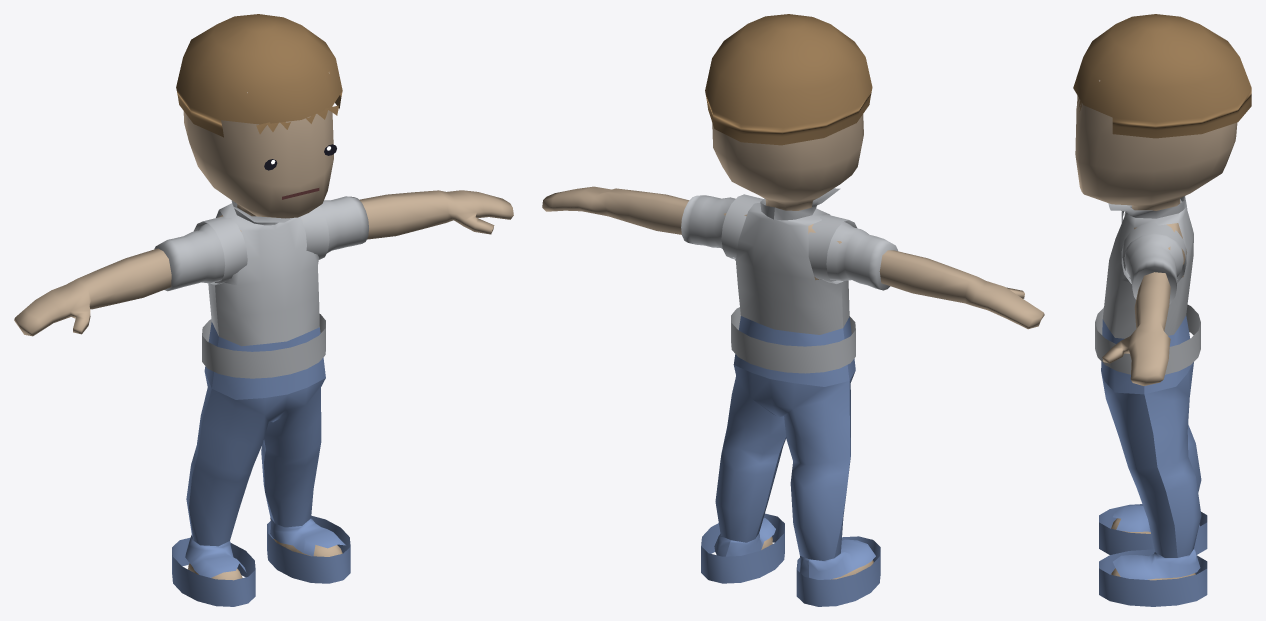
3 views of the same model, side by side, from view 1: azimuth 30°, elevation 25°; view 2: azimuth 150°, elevation 25°; view 3: azimuth 270°, elevation 25° (orthographic).
Parts seen in each view (by area): view 1: Clothing_jeans, Body, Clothing_short_sleeve, Hair, Clothing_hem; view 2: Clothing_jeans, Clothing_short_sleeve, Body, Hair, Clothing_hem; view 3: Clothing_jeans, Hair, Body, Clothing_short_sleeve, Clothing_hem.
Part boxes in pixels (x1,y1,x2,y2): Clothing_jeans: (172,322,350,606); Body: (14,72,513,580); Clothing_short_sleeve: (154,196,368,346); Hair: (176,14,342,137); Clothing_hem: (202,313,325,378); Clothing_jeans: (701,316,880,606); Clothing_short_sleeve: (681,188,897,334); Body: (542,114,1044,579); Hair: (705,14,872,145); Clothing_hem: (731,307,855,373); Clothing_jeans: (1099,315,1207,606); Hair: (1073,14,1251,138); Body: (1075,80,1237,580); Clothing_short_sleeve: (1103,196,1193,338); Clothing_hem: (1095,305,1200,374).
Bounding box in the file's own units: 1.44 × 1.53 × 0.4563.
